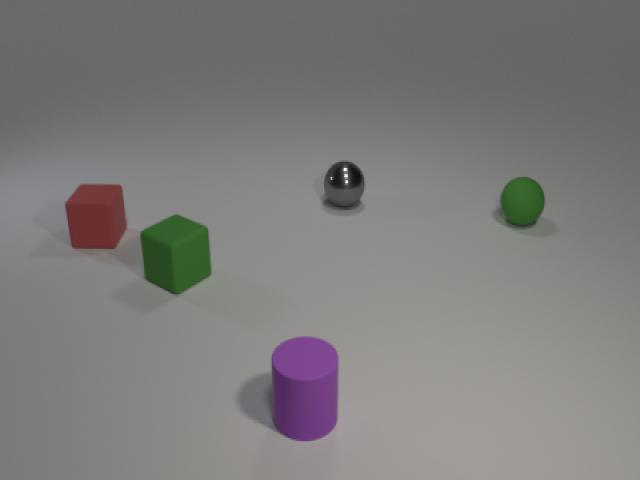cylinder: (268, 332, 345, 444)
round ball: (496, 169, 548, 233), (317, 152, 368, 214)
